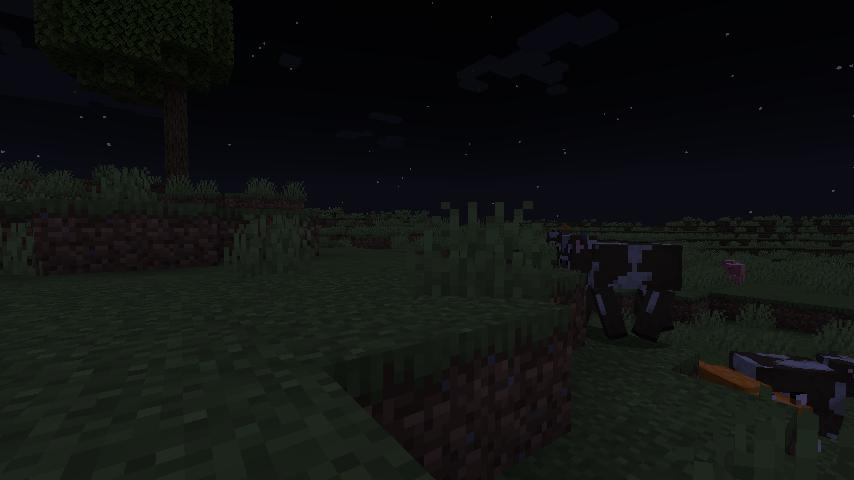cow: (552, 225, 690, 349), (726, 344, 854, 456)
fox: (689, 349, 827, 468)
pig: (720, 255, 749, 288)
